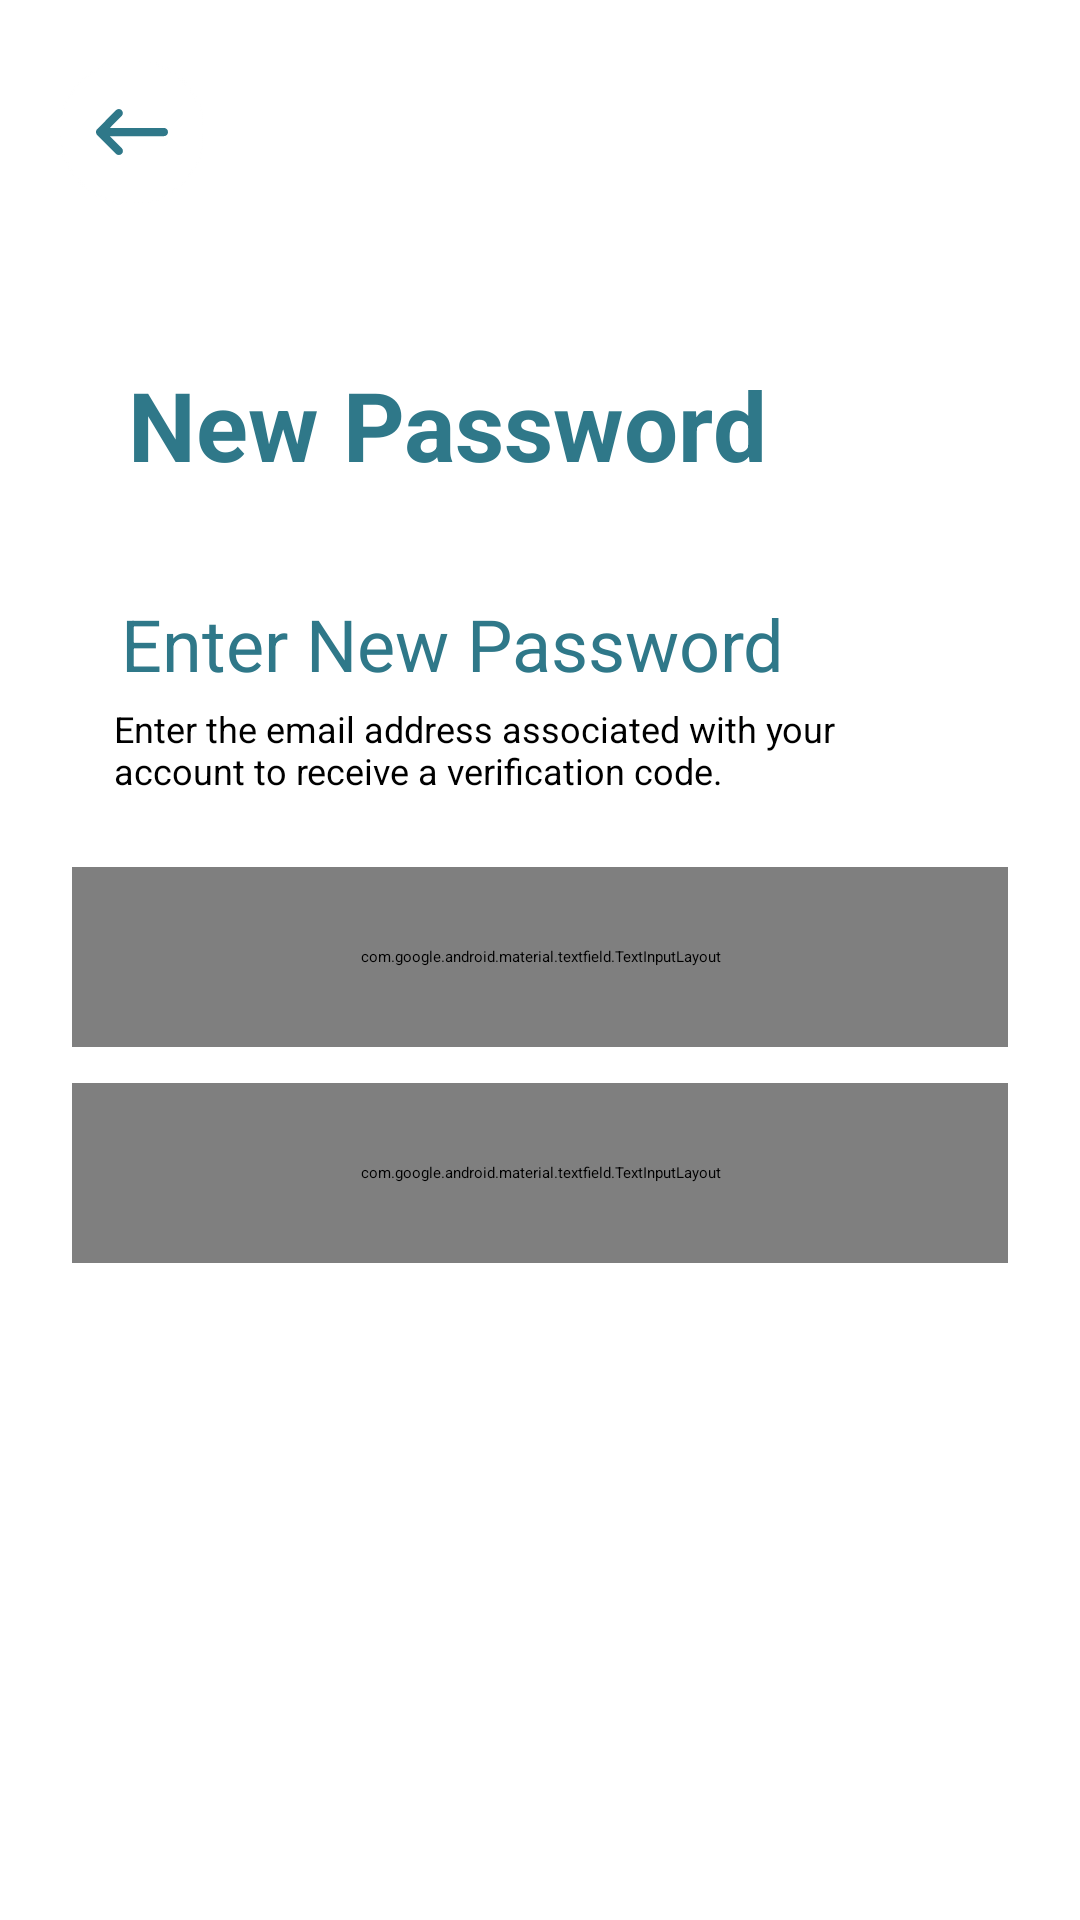

Named icons in this screenshot (1080px x 1920px) and their centers, (x=x, y=y):
back arrorw: (x=132, y=132)
